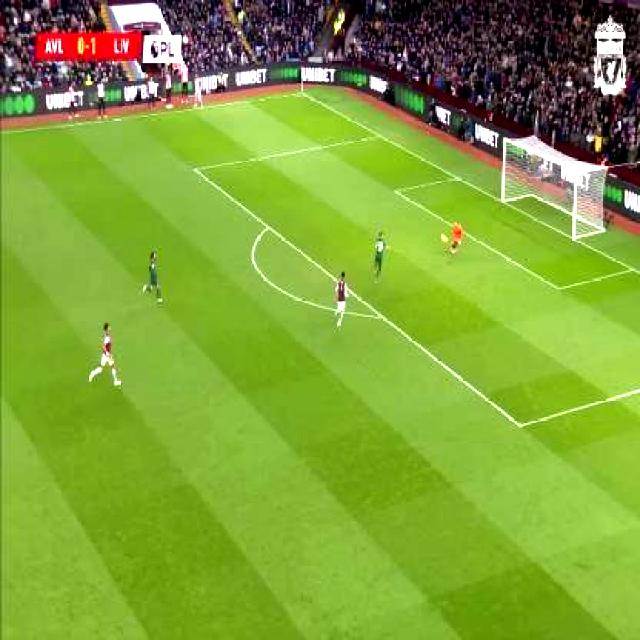bigarea_bottom_inner: (511, 417, 529, 435)
bigarea_top_inner: (189, 163, 202, 175)
bigarea_top_outter: (376, 132, 384, 140)
bottom_arc_area_intersection: (374, 306, 388, 326)
corner: (296, 89, 306, 97)
smallarea_bottom_inner: (554, 283, 564, 295)
smallarea_bottom_outter: (628, 264, 637, 276)
smallarea_top_inner: (392, 186, 400, 197)
smallarea_top_outter: (452, 173, 460, 184)
top_arc_area_intersection: (261, 220, 274, 234)
